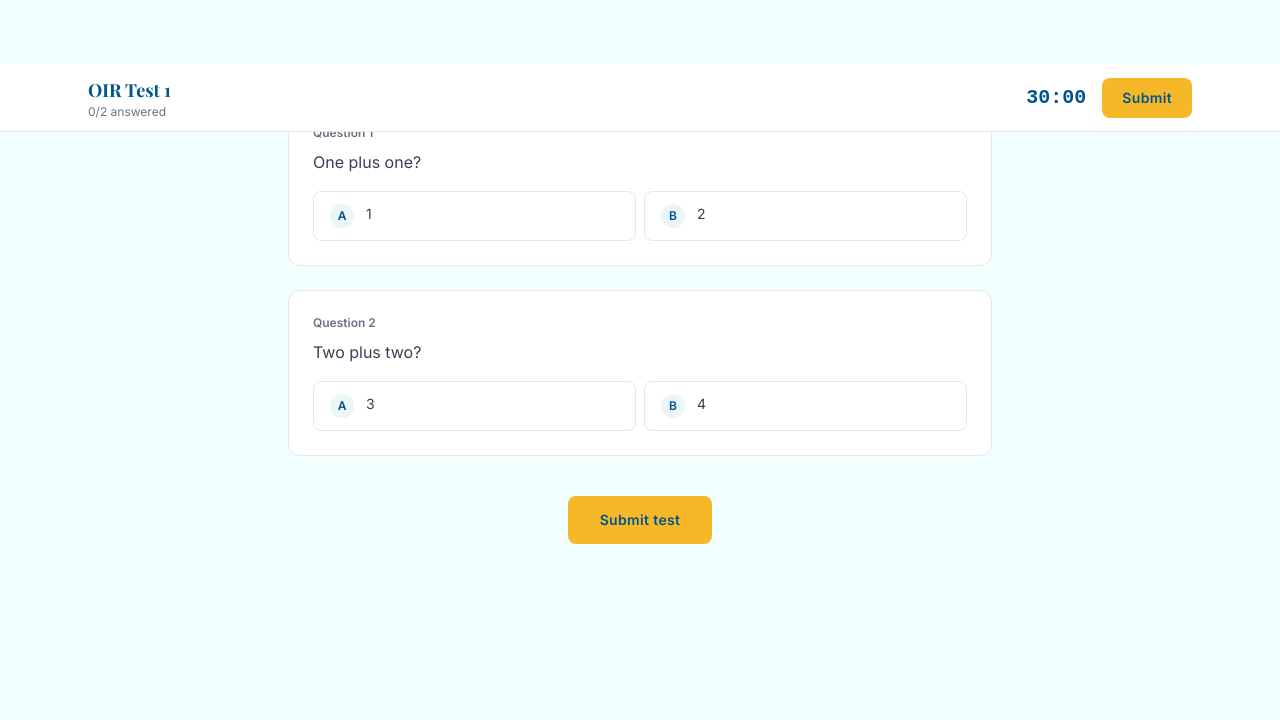
TakeTest › loads questions, records answers, submits and shows the score
Check: the text "One plus one?" is shown, box [313,152,421,172]
Check: the text "30:00" is shown, box [1026,84,1086,112]
Step 1. Click the text "2" → (701, 214), box [697,204,706,224]
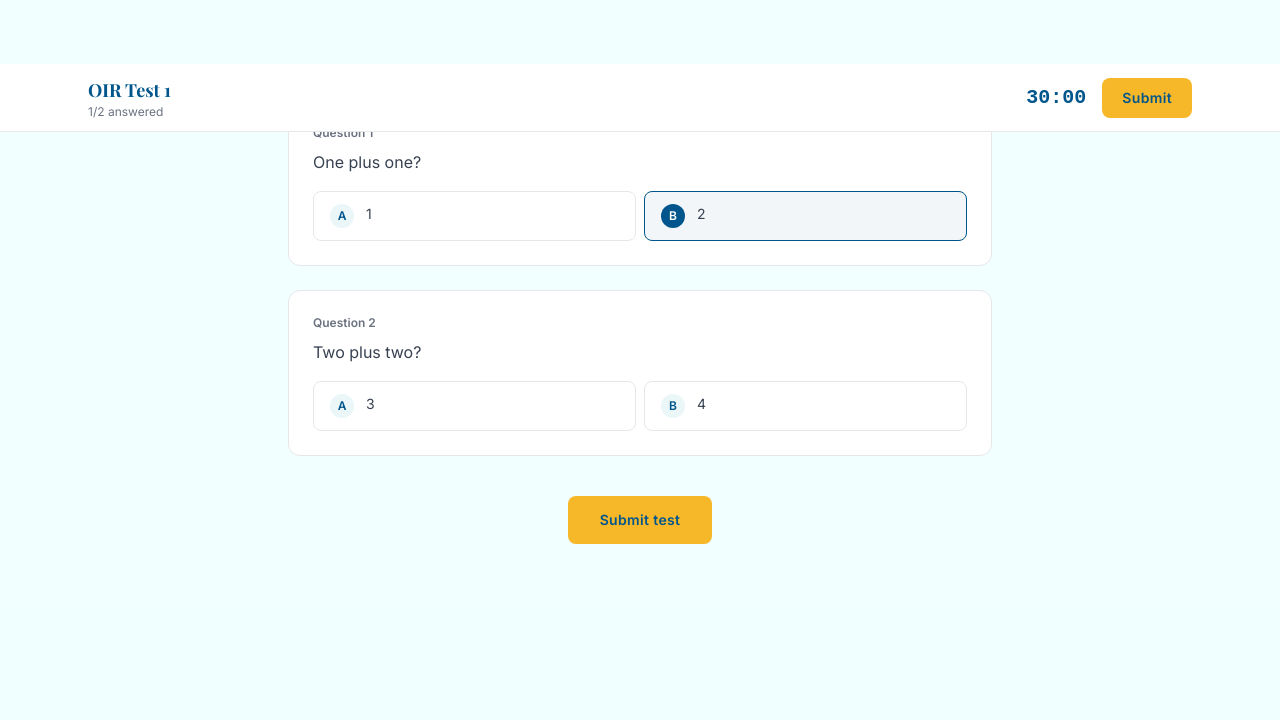
Check: the text "1/2 answered" is shown, box [88,104,171,120]
Step 2. Click the button "Submit test" → (640, 520), box [568,496,712,544]
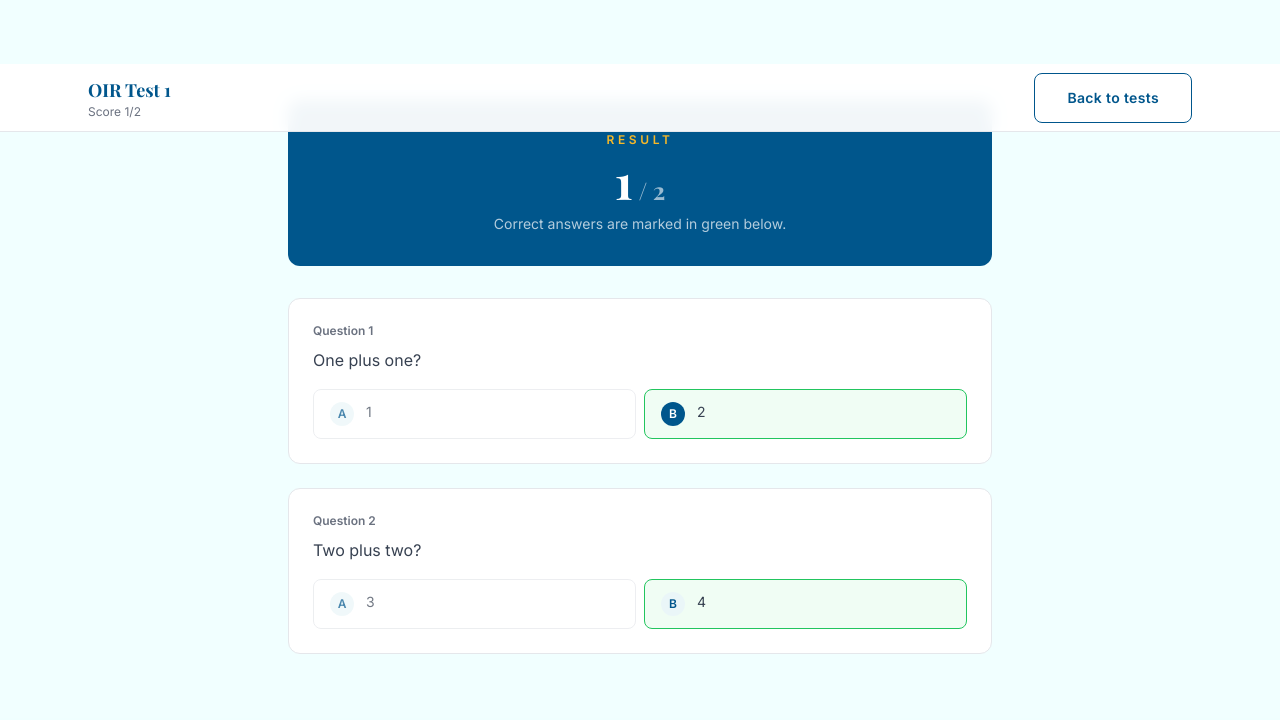
Check: the text "Score 1/2" is shown, box [88,104,141,118]
